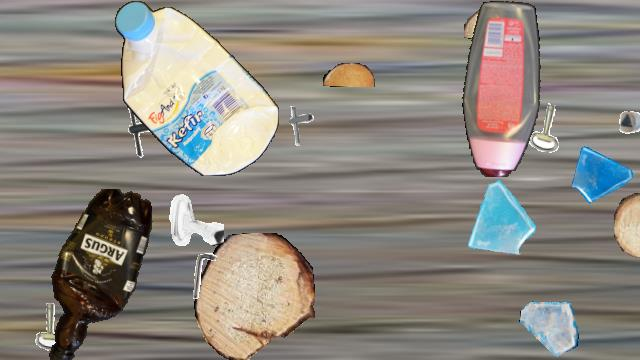glass: (457, 179, 537, 259), (569, 140, 635, 206), (519, 299, 579, 359)
metal: (117, 99, 177, 159), (166, 191, 224, 249), (25, 299, 81, 355), (521, 100, 577, 156), (179, 249, 233, 303), (277, 103, 321, 147), (618, 97, 640, 149)
plastic: (115, 1, 279, 175), (39, 189, 159, 359), (461, 1, 545, 177)
wood: (194, 233, 314, 359), (464, 9, 538, 41), (614, 193, 640, 257), (323, 63, 375, 87)
